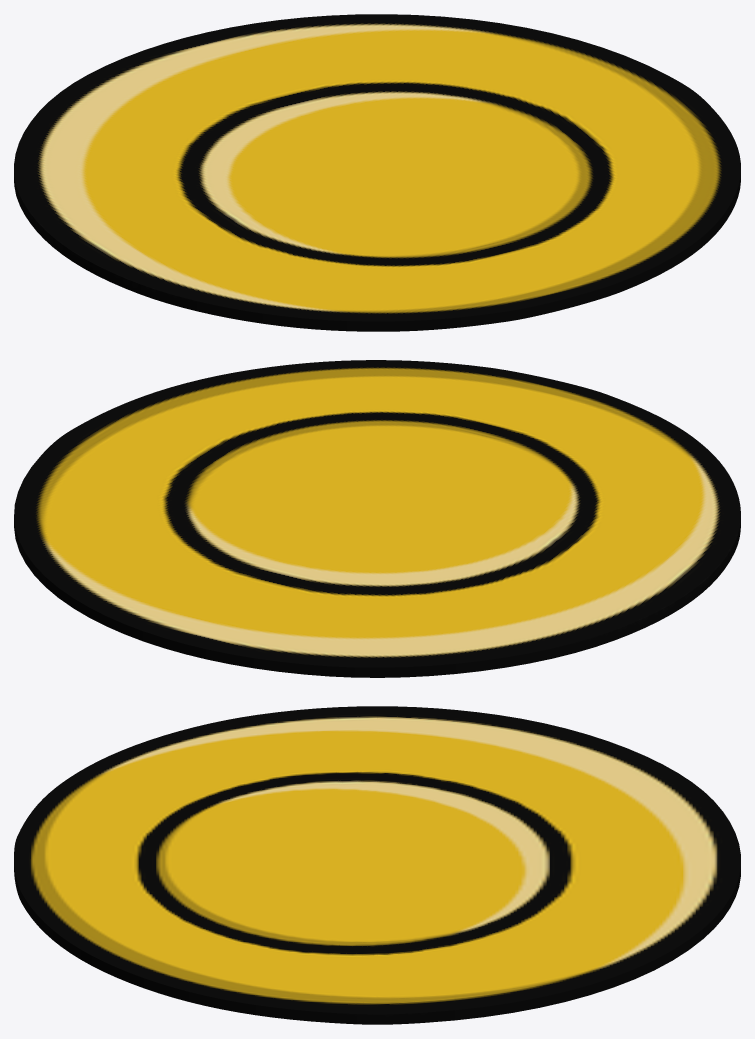
The picture shows the model from 3 angles, top to bottom: view 1: azimuth 30°, elevation 25°; view 2: azimuth 150°, elevation 25°; view 3: azimuth 270°, elevation 25°; orthographic projection.
Parts seen in each view (by area): view 1: path24; view 2: path24; view 3: path24.
Boxes of the visible parts, box(x1,y1,x2,y2) form: path24: box(14, 14, 740, 331); path24: box(14, 360, 740, 677); path24: box(14, 706, 740, 1024).
Size of the model in its own units: 97.75 by 1.5 by 97.39.
Materials: 1 (1 with a texture image).
